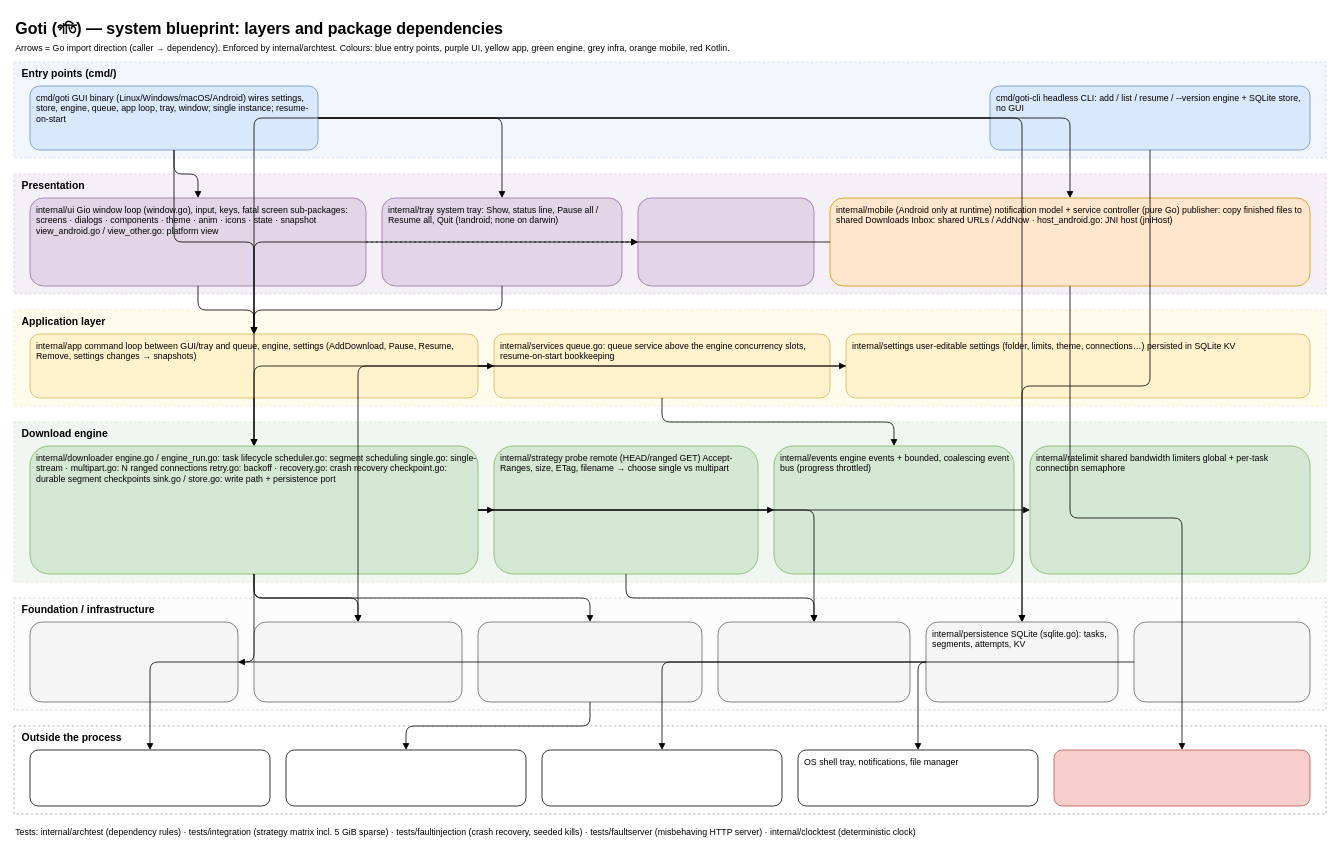
Image size: 1340x867. Some labels were removed from this diagram. The centre of each missing label's shape, as x and y in pixels:
Android host app (Kotlin) see page 3: [1181,777]
File system download folder / Android private dir: [405,777]
goti.db (SQLite) in the data dir: [661,777]
HTTP(S) servers (origin, redirects, ranges): [149,777]
internal/brand name, wordmark, tagline: [725,241]
internal/config engine config + defaults data dir (+ legacy migration): [357,661]
internal/domain core types: Task, Segment, Attempt, State, Clock, errors: [133,661]
internal/platform OS + formatting helpers (open file, ETA, sizes): [1221,661]
internal/storage safe file handling: names, .goti-part temp files, rename: [589,661]
internal/transport header parsing, URL redaction: [813,661]
